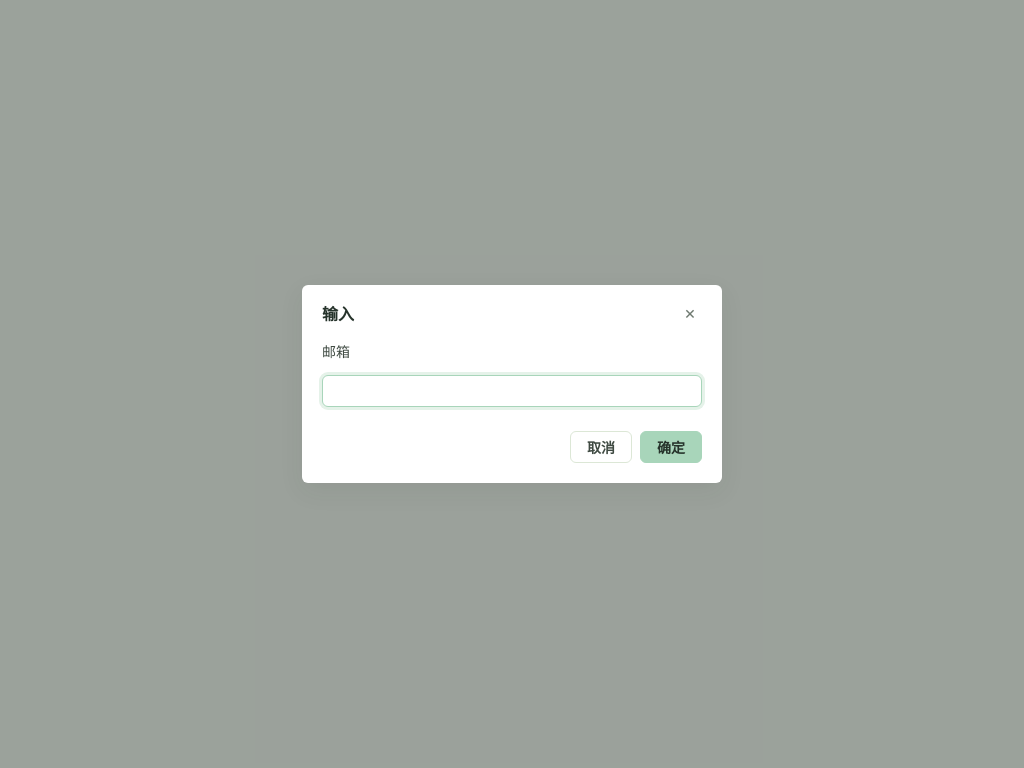
Test: MessageBox › prompt 校验不通过时不关闭
The image size is (1024, 768).
In the field: (512, 391) x1=322 y1=375 x2=702 y2=407, type "invalid"
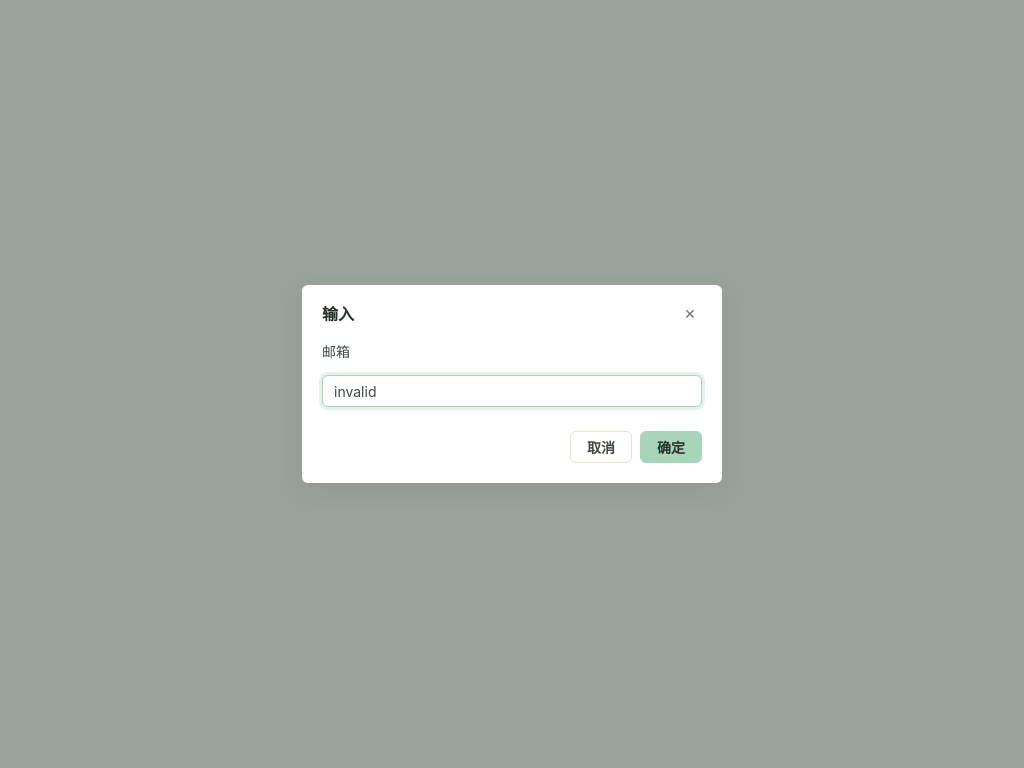
Click the button with class "is-primary": click(671, 447) x1=640 y1=431 x2=702 y2=463
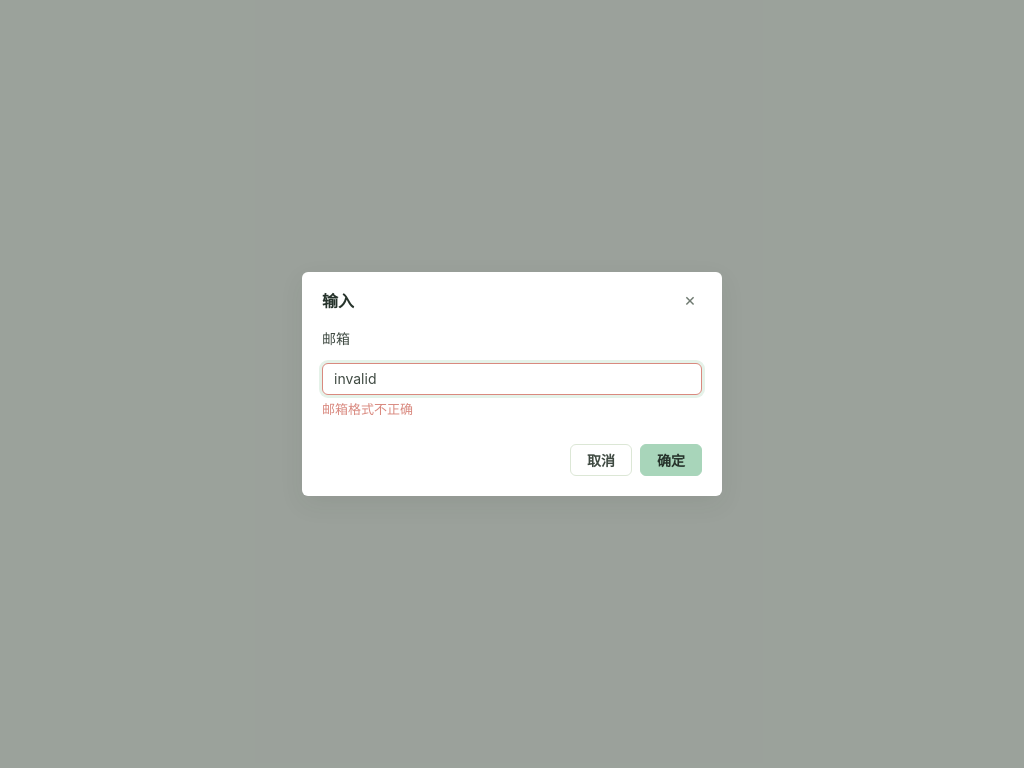
Expected: the dialog is shown, x1=302 y1=272 x2=722 y2=496
Expected: the text "邮箱格式不正确" is shown, x1=322 y1=401 x2=413 y2=417
